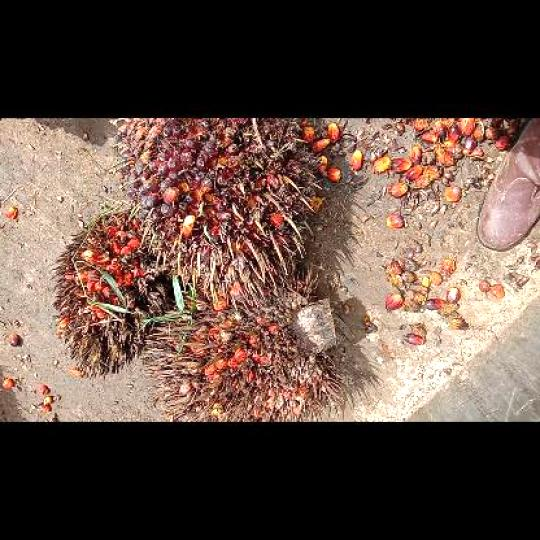masak: (111, 118, 328, 308)
terlalu masak: (141, 273, 339, 420), (47, 211, 171, 378)
